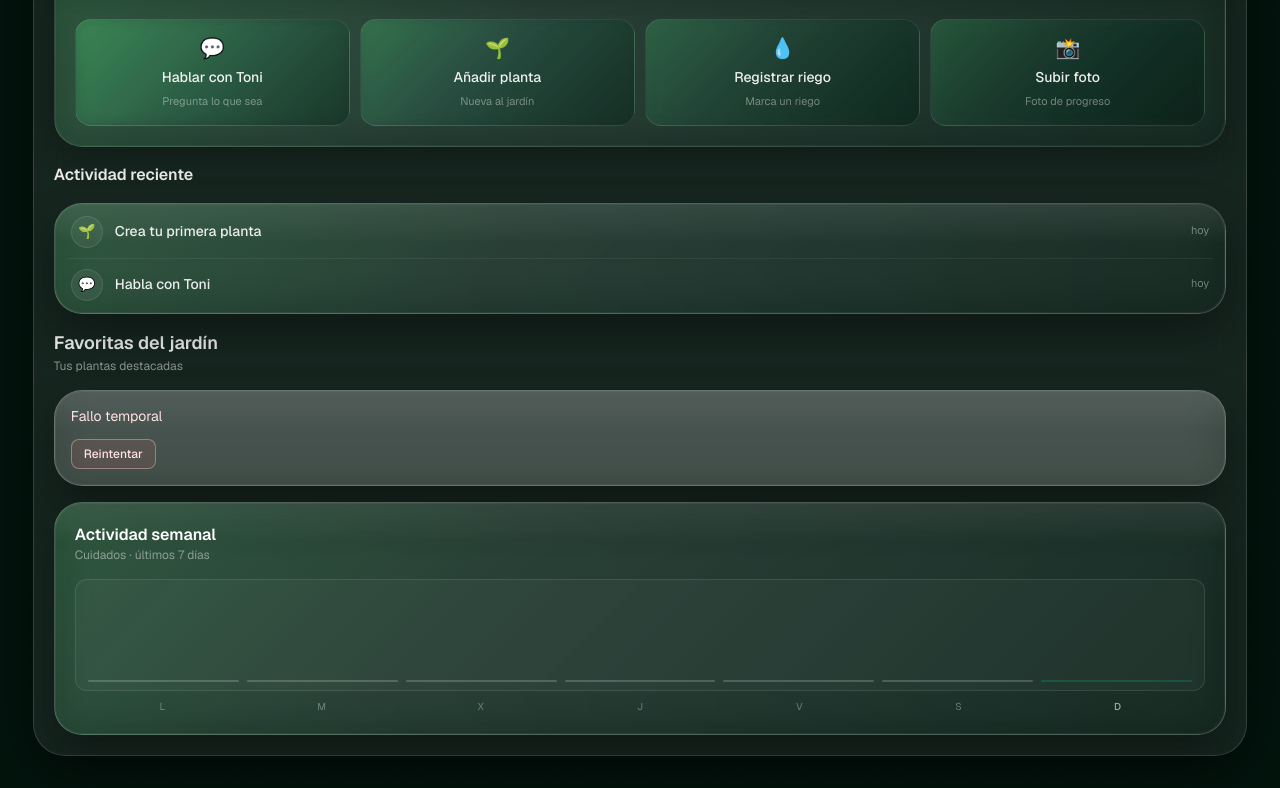
Test: home page › shows error and retries loading
(page scrolled)
Expected: the text "Fallo temporal" is shown, [71,408,162,426]
Click the button "Reintentar": (113,454) [71,438,156,468]
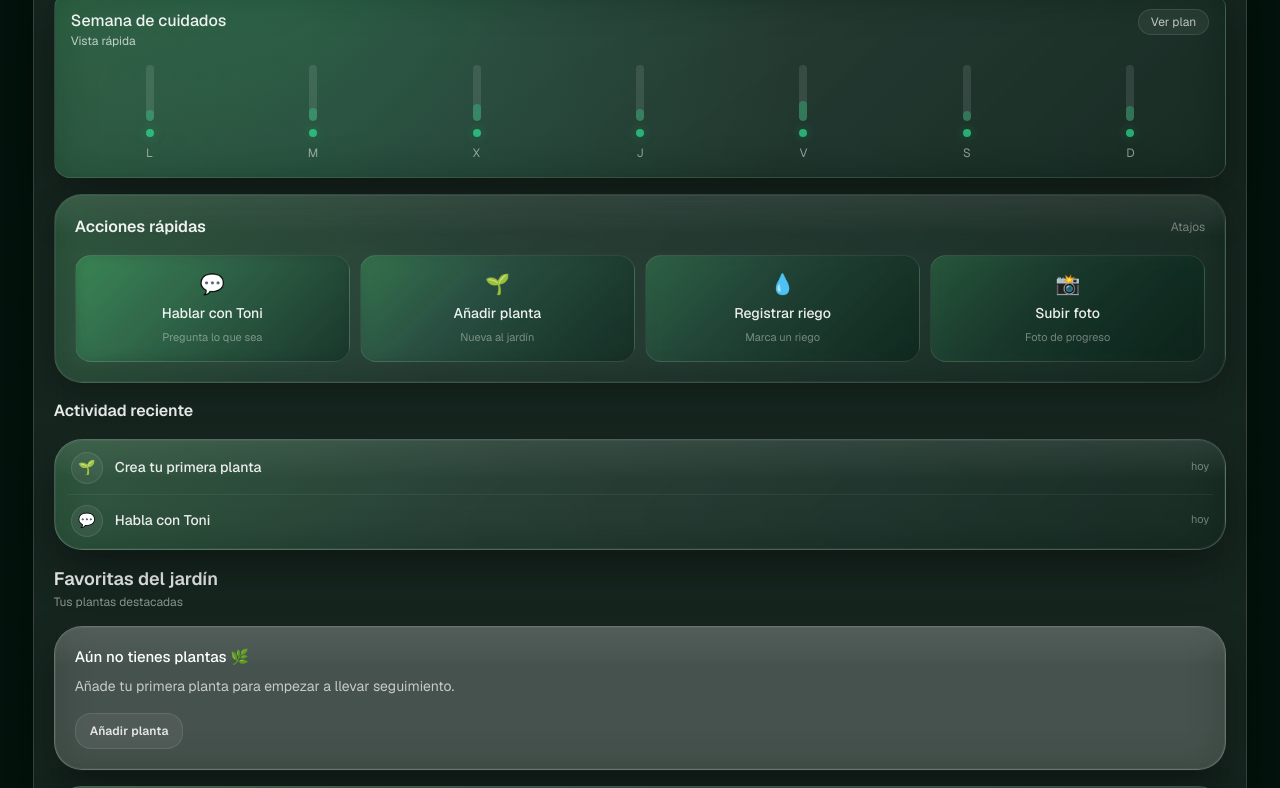
Result: the text "Aún no tienes plantas 🌿" is shown at [75,648,249,667]
